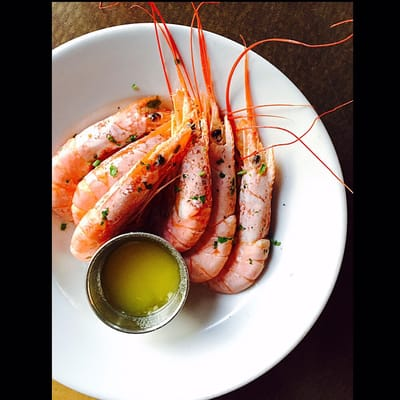sushi: (85, 233, 189, 334)
